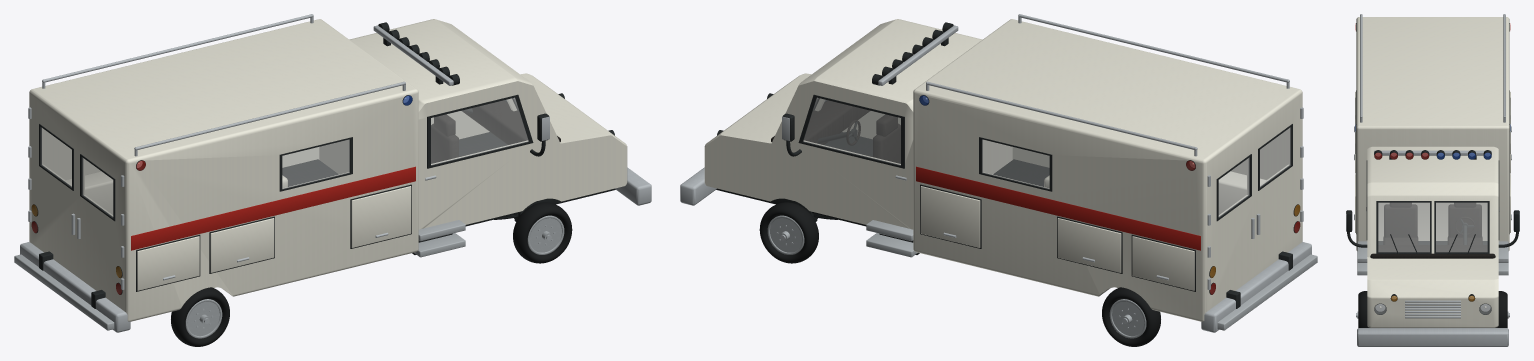
File: ambulance.glb
3 views of the same model, side by side, from view 1: azimuth 30°, elevation 25°; view 2: azimuth 150°, elevation 25°; view 3: azimuth 270°, elevation 25° (orthographic). The views are drawn at different scales.
Visible parts, largest first — view 1: Finite closed equipment module with wheel bays, Shaped hollow cab with cut wheel arches and true glazing ape, Generic side colour band -1, Cab -1 side window finite glazing, Module -1 compartment 2 closed door, Module -1 compartment 1 closed door, Module -1 compartment 0 closed door, Medical module side glazing -1 finite glazing, Closed formed bumper -3730.0, Axle 1 right wheel rounded tyre carcass, Seated full-width dashboard, Axle 2 right wheel rounded tyre carcass (+18 smaller); view 2: Finite closed equipment module with wheel bays, Shaped hollow cab with cut wheel arches and true glazing ape, Generic side colour band 1, Cab 1 side window finite glazing, Module 1 compartment 2 closed door, Module 1 compartment 1 closed door, Module 1 compartment 0 closed door, Medical module side glazing 1 finite glazing, Closed formed bumper -3730.0, Axle 1 left wheel rounded tyre carcass, Seated full-width dashboard, Axle 2 left wheel rounded tyre carcass (+18 smaller); view 3: Finite closed equipment module with wheel bays, Shaped hollow cab with cut wheel arches and true glazing ape, Closed formed bumper 3730.0, Cab 1 windscreen finite glazing, Cab -1 windscreen finite glazing, Seated full-width dashboard, Cab seat -1 backrest, Cab seat 1 backrest, Cab 1 windscreen seated aperture seal, Cab -1 windscreen seated aperture seal, Seated warning bar spine, Axle 1 left wheel rounded tyre carcass (+16 smaller).
Part boxes in pixels (bbox=[...]): Finite closed equipment module with wheel bays: bbox=[29, 19, 418, 321]; Shaped hollow cab with cut wheel arches and true glazing ape: bbox=[349, 19, 627, 229]; Generic side colour band -1: bbox=[131, 166, 415, 250]; Cab -1 side window finite glazing: bbox=[431, 98, 528, 165]; Module -1 compartment 2 closed door: bbox=[351, 186, 411, 247]; Module -1 compartment 1 closed door: bbox=[210, 218, 274, 272]; Module -1 compartment 0 closed door: bbox=[137, 236, 199, 290]; Medical module side glazing -1 finite glazing: bbox=[282, 139, 349, 188]; Closed formed bumper -3730.0: bbox=[20, 242, 130, 332]; Axle 1 right wheel rounded tyre carcass: bbox=[513, 202, 572, 263]; Seated full-width dashboard: bbox=[462, 100, 560, 144]; Axle 2 right wheel rounded tyre carcass: bbox=[171, 287, 229, 346]; Finite closed equipment module with wheel bays: bbox=[913, 19, 1302, 321]; Shaped hollow cab with cut wheel arches and true glazing ape: bbox=[704, 19, 982, 229]; Generic side colour band 1: bbox=[916, 166, 1200, 250]; Cab 1 side window finite glazing: bbox=[803, 98, 900, 165]; Module 1 compartment 2 closed door: bbox=[920, 186, 980, 247]; Module 1 compartment 1 closed door: bbox=[1057, 218, 1121, 272]; Module 1 compartment 0 closed door: bbox=[1132, 236, 1194, 290]; Medical module side glazing 1 finite glazing: bbox=[982, 139, 1049, 188]; Closed formed bumper -3730.0: bbox=[1201, 242, 1311, 332]; Axle 1 left wheel rounded tyre carcass: bbox=[759, 202, 818, 263]; Seated full-width dashboard: bbox=[771, 100, 869, 144]; Axle 2 left wheel rounded tyre carcass: bbox=[1102, 287, 1160, 346]; Finite closed equipment module with wheel bays: bbox=[1356, 17, 1509, 250]; Shaped hollow cab with cut wheel arches and true glazing ape: bbox=[1367, 146, 1498, 327]; Closed formed bumper 3730.0: bbox=[1357, 328, 1508, 346]; Cab 1 windscreen finite glazing: bbox=[1436, 203, 1487, 251]; Cab -1 windscreen finite glazing: bbox=[1378, 203, 1429, 251]; Seated full-width dashboard: bbox=[1370, 245, 1495, 258]; Cab seat -1 backrest: bbox=[1384, 204, 1417, 237]; Cab seat 1 backrest: bbox=[1448, 204, 1481, 237]; Cab 1 windscreen seated aperture seal: bbox=[1434, 201, 1489, 253]; Cab -1 windscreen seated aperture seal: bbox=[1376, 201, 1431, 253]; Seated warning bar spine: bbox=[1374, 150, 1491, 155]; Axle 1 left wheel rounded tyre carcass: bbox=[1495, 291, 1507, 327].
Bounding box in the file's own units: 7.78 × 2.97 × 2.78.
Materials: 13 (13 with a texture image).
